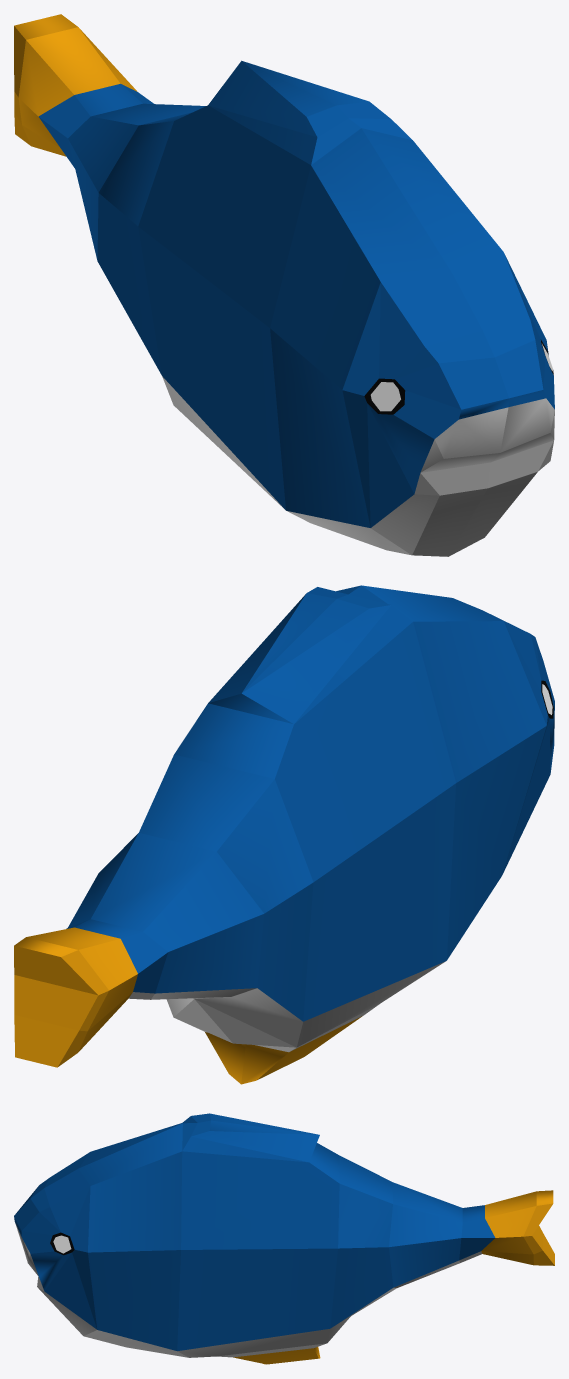
The model's file is Fish-1e.fbx.
3 views of the same model, one above another, from view 1: azimuth 30°, elevation 25°; view 2: azimuth 150°, elevation 25°; view 3: azimuth 270°, elevation 25° (orthographic). The views are drawn at different scales.
Parts seen in each view (by area): view 1: Fish-1; view 2: Fish-1; view 3: Fish-1.
Boxes of the visible parts, x1,y1,x2,y2 form: Fish-1: (14, 14, 554, 556); Fish-1: (14, 585, 554, 1084); Fish-1: (14, 1113, 554, 1364).
Size of the model in its own units: 0.2252 by 0.4485 by 0.9027.
